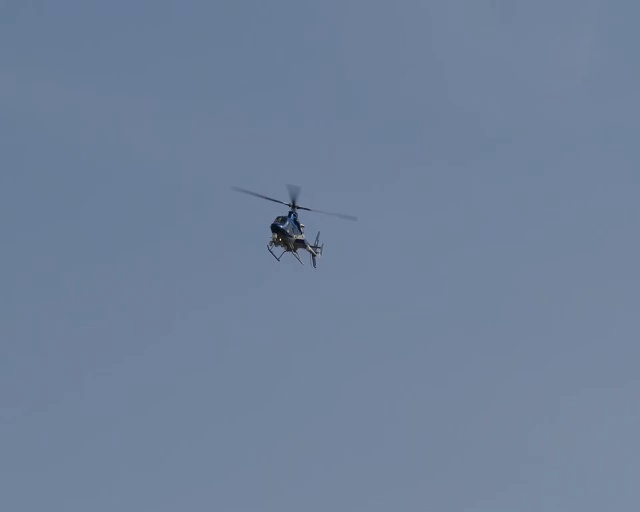HELICOPTER: (230, 183, 358, 268)
